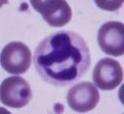N: (34, 31, 91, 86)
